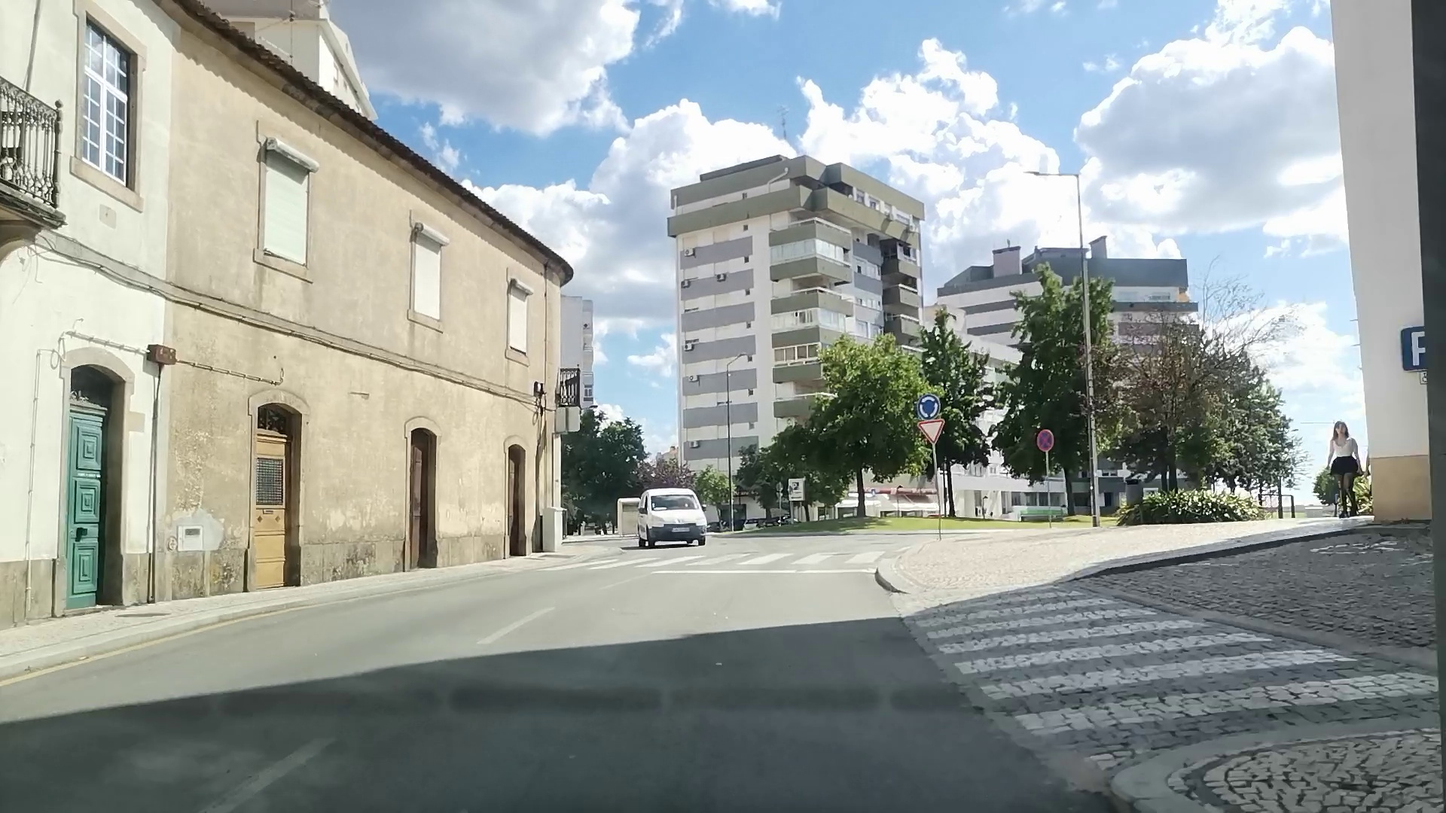Stairs: (542, 551, 889, 570)
